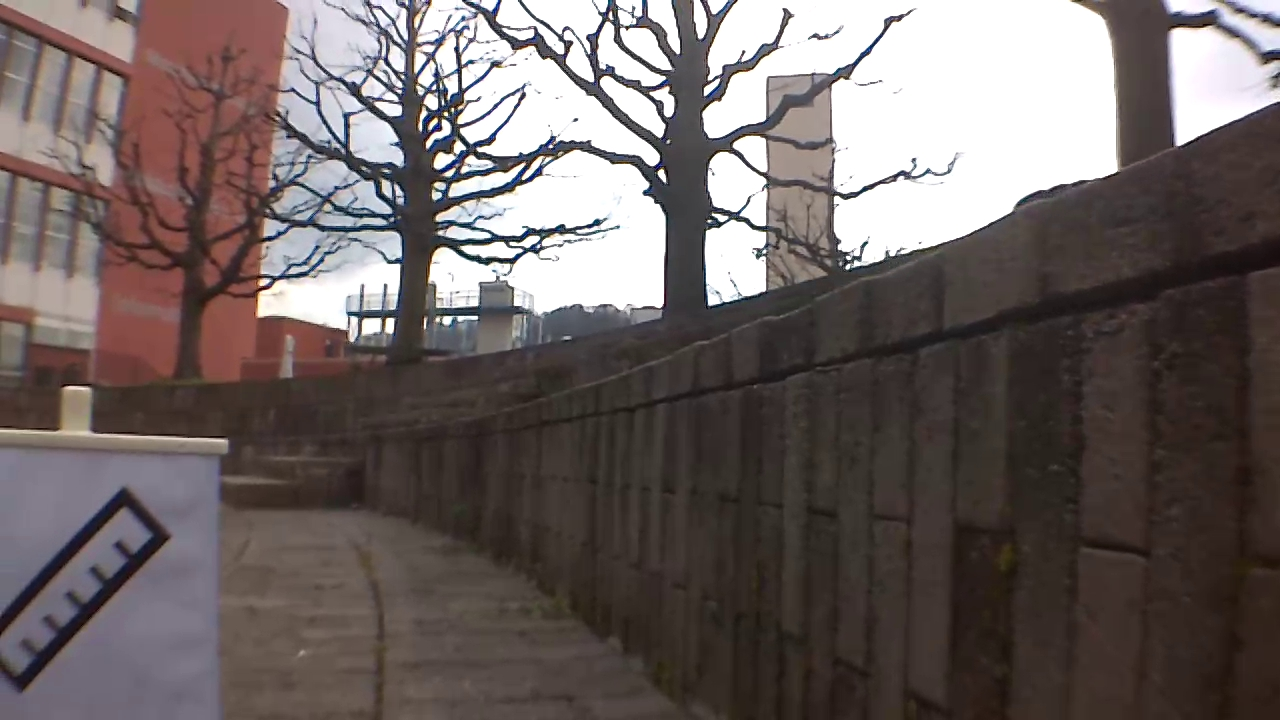ruler: (0, 487, 180, 699)
